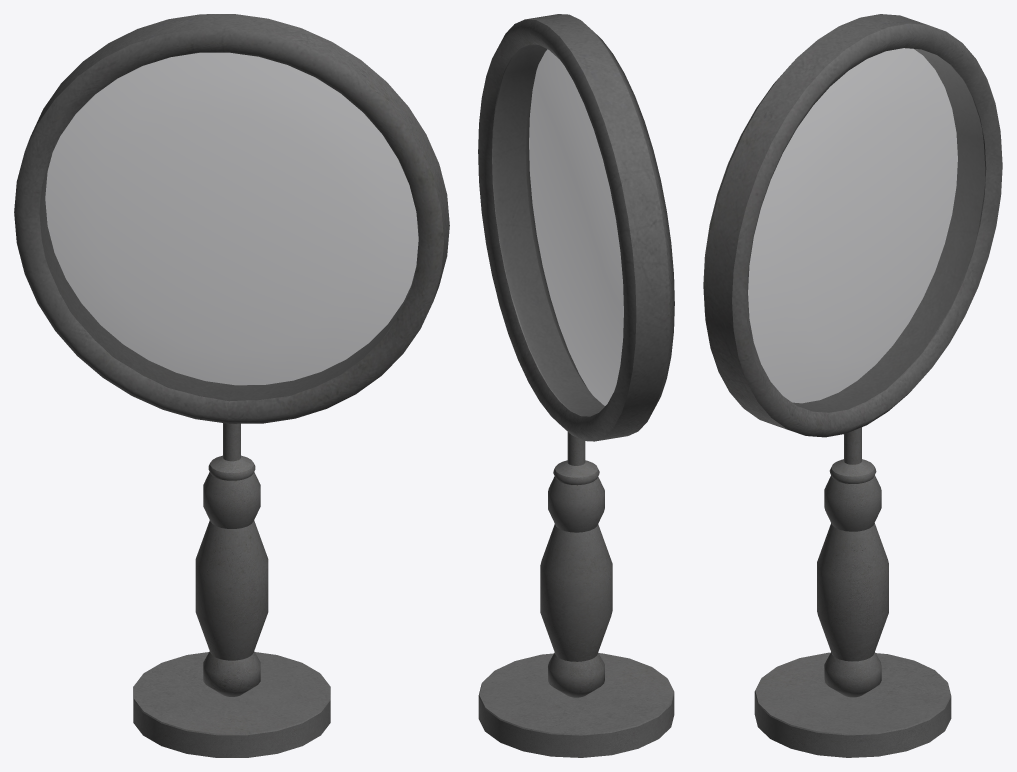
The model's file is Lance_Translucent.gltf.
The picture shows the model from 3 angles, left to right: view 1: azimuth 30°, elevation 25°; view 2: azimuth 150°, elevation 25°; view 3: azimuth 270°, elevation 25°; orthographic projection.
Visible parts, largest first — view 1: Glass1, Magnifire_Glass; view 2: Magnifire_Glass, Glass1; view 3: Magnifire_Glass, Glass1.
Boxes of the visible parts, <box> form: Glass1: <box>39,52,418,401</box>; Magnifire_Glass: <box>14,14,449,757</box>; Magnifire_Glass: <box>478,14,674,757</box>; Glass1: <box>492,44,623,416</box>; Magnifire_Glass: <box>703,14,1002,757</box>; Glass1: <box>748,48,985,412</box>.
Size of the model in its own units: 0.7264 by 1.54 by 0.6098.
Materials: 2 (1 with a texture image).
